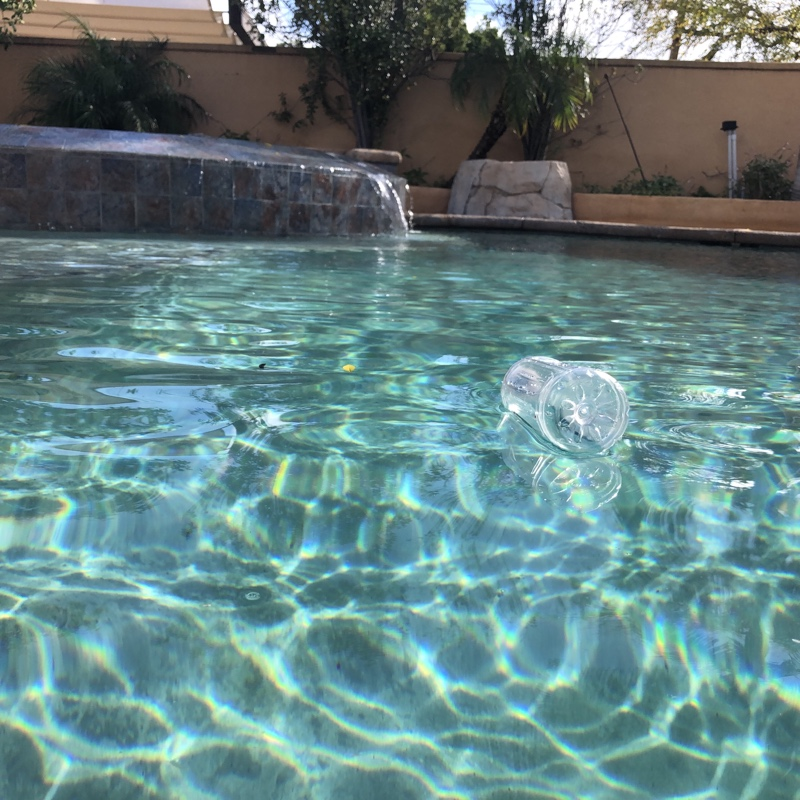Plastic Bottle: (499, 351, 632, 463)
